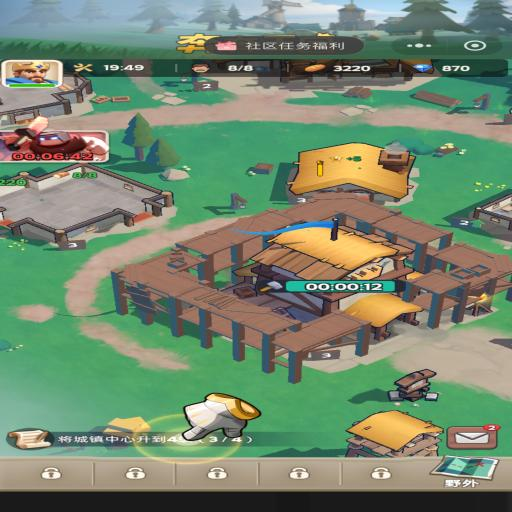newcomer_hand: (180, 392, 259, 439)
